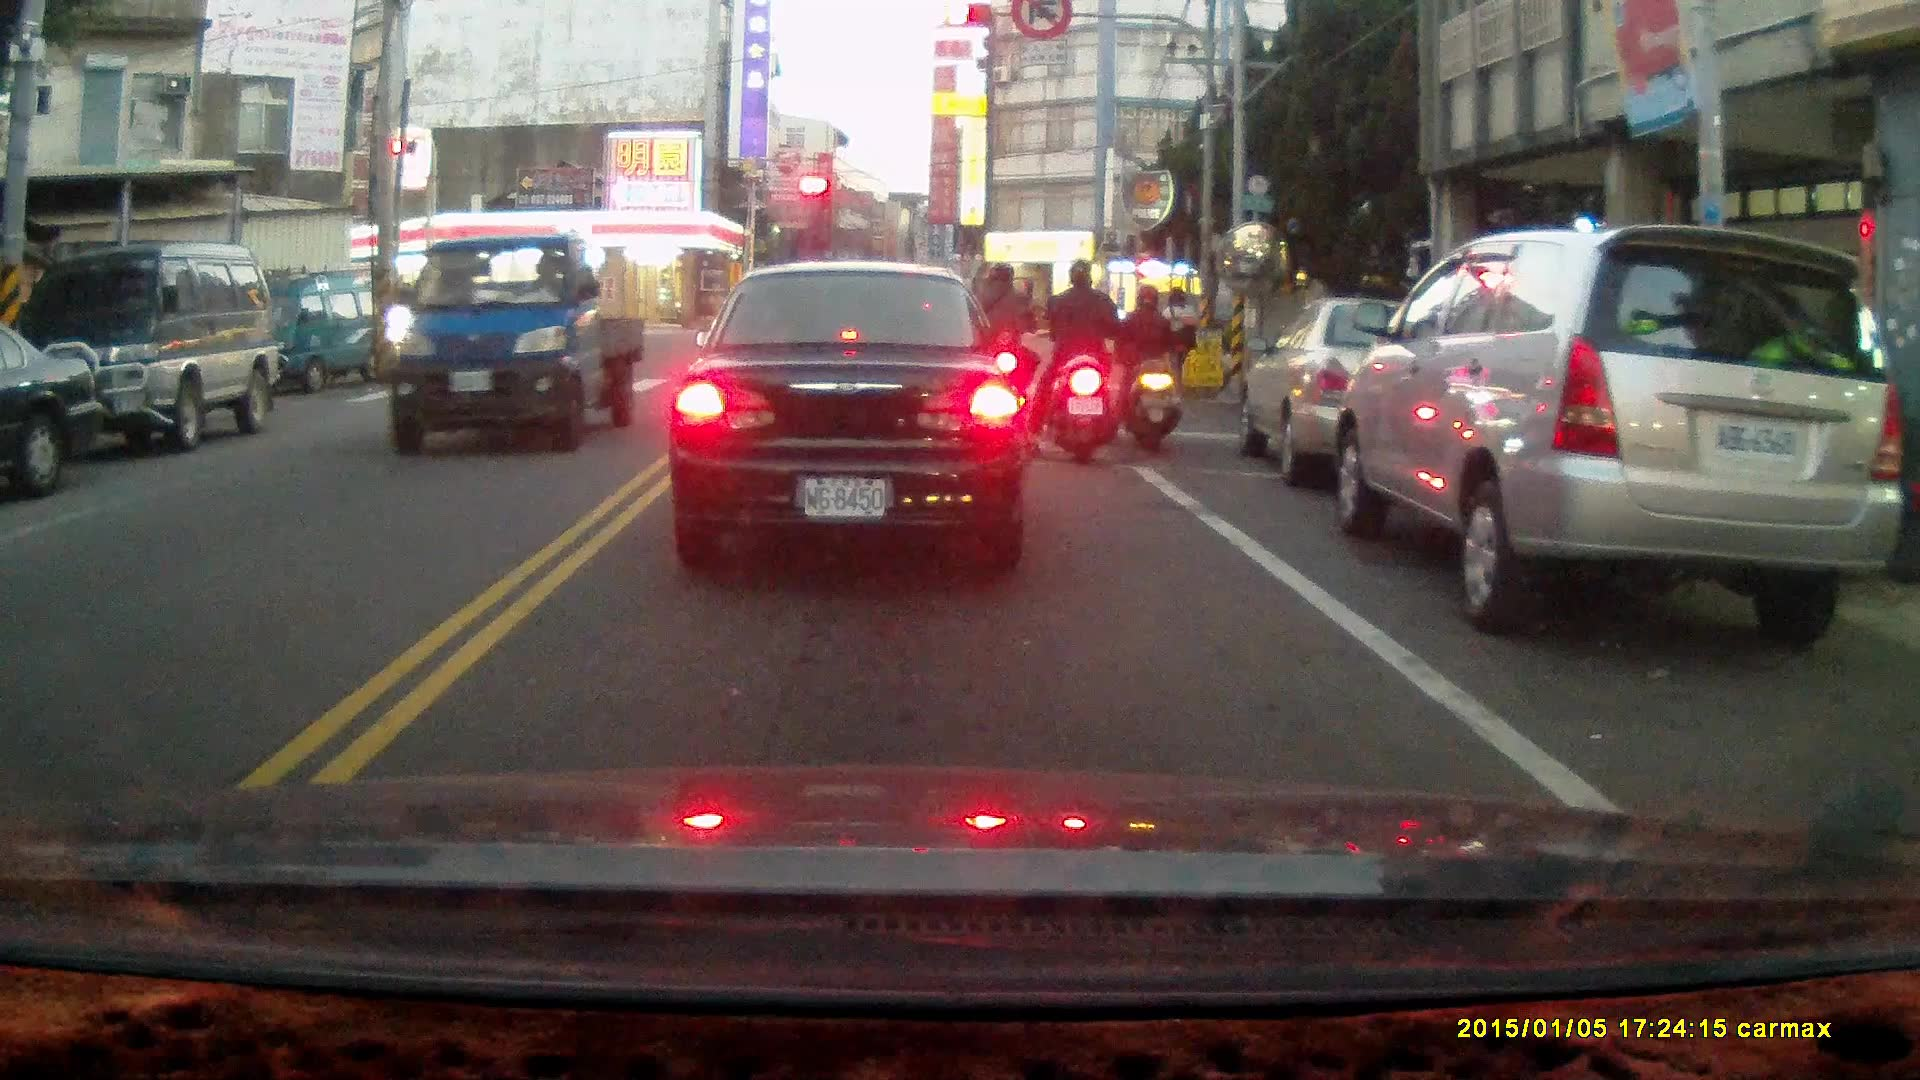pedestrian: (1155, 284, 1199, 405)
rider: (1031, 258, 1129, 462), (964, 261, 1038, 437), (1115, 281, 1182, 450)
vehicle: (1332, 225, 1904, 641), (667, 257, 1032, 570), (6, 237, 280, 458), (390, 236, 647, 454), (1243, 296, 1514, 493), (244, 270, 409, 401), (1, 323, 110, 500)
